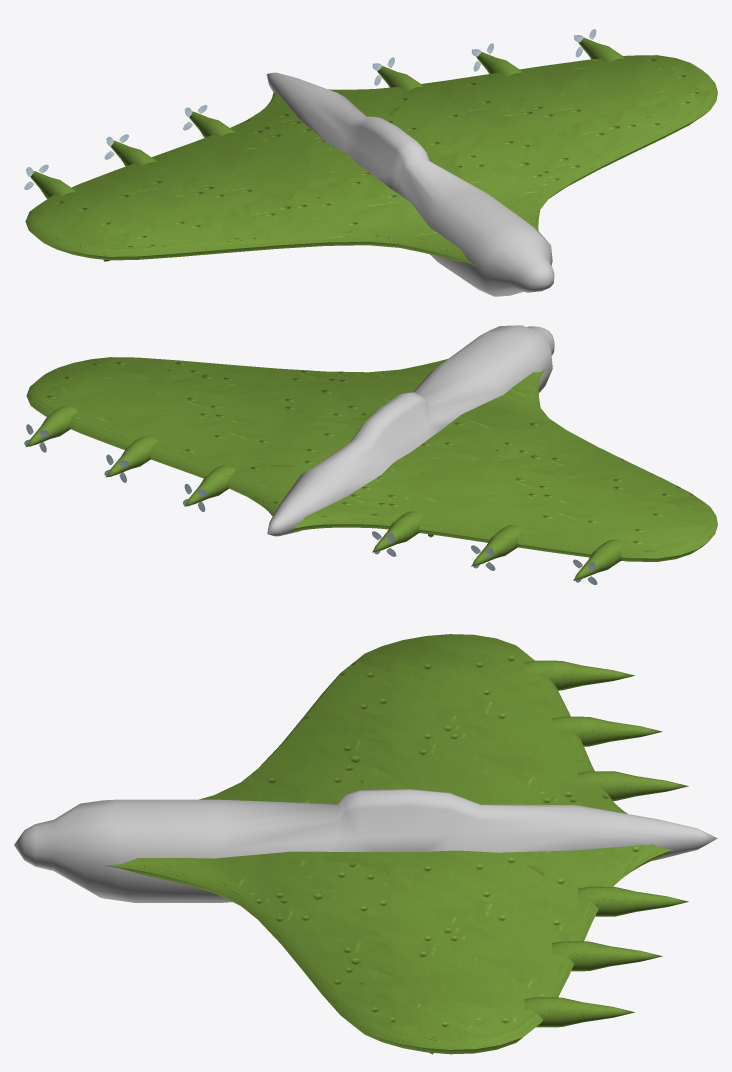
File: SupportPlane.FBX
3 views of the same model, one above another, from view 1: azimuth 30°, elevation 25°; view 2: azimuth 150°, elevation 25°; view 3: azimuth 270°, elevation 25° (orthographic). The views are drawn at different scales.
Parts seen in each view (by area): view 1: Line02, WarPlane, Cylinder08, Cylinder06, Cylinder07, Cylinder03, Cylinder05, Cylinder04; view 2: Line02, WarPlane, Cylinder08, Cylinder06, Cylinder07, Cylinder03, Cylinder04, Cylinder05; view 3: Line02, WarPlane, Cylinder05, Cylinder04, Cylinder03, Cylinder07, Cylinder08, Cylinder06.
Boxes of the visible parts, bbox=[...] form: Line02: bbox=[25, 55, 717, 265]; WarPlane: bbox=[266, 72, 554, 296]; Cylinder08: bbox=[26, 169, 77, 198]; Cylinder06: bbox=[184, 109, 236, 137]; Cylinder07: bbox=[106, 139, 157, 166]; Cylinder03: bbox=[472, 49, 523, 77]; Cylinder05: bbox=[574, 35, 625, 63]; Cylinder04: bbox=[373, 63, 424, 91]; Line02: bbox=[26, 357, 717, 561]; WarPlane: bbox=[267, 325, 554, 536]; Cylinder08: bbox=[573, 539, 624, 580]; Cylinder06: bbox=[372, 511, 423, 552]; Cylinder07: bbox=[471, 525, 522, 566]; Cylinder03: bbox=[106, 436, 157, 477]; Cylinder04: bbox=[184, 465, 235, 506]; Cylinder05: bbox=[26, 406, 77, 446]; Line02: bbox=[103, 634, 672, 1054]; WarPlane: bbox=[14, 789, 717, 902]; Cylinder05: bbox=[524, 997, 634, 1027]; Cylinder04: bbox=[578, 886, 688, 916]; Cylinder03: bbox=[552, 941, 662, 971]; Cylinder07: bbox=[552, 716, 662, 746]; Cylinder08: bbox=[524, 660, 634, 690]; Cylinder06: bbox=[578, 771, 688, 800].
Bounding box in the file's own units: 1088 × 132 × 786.
